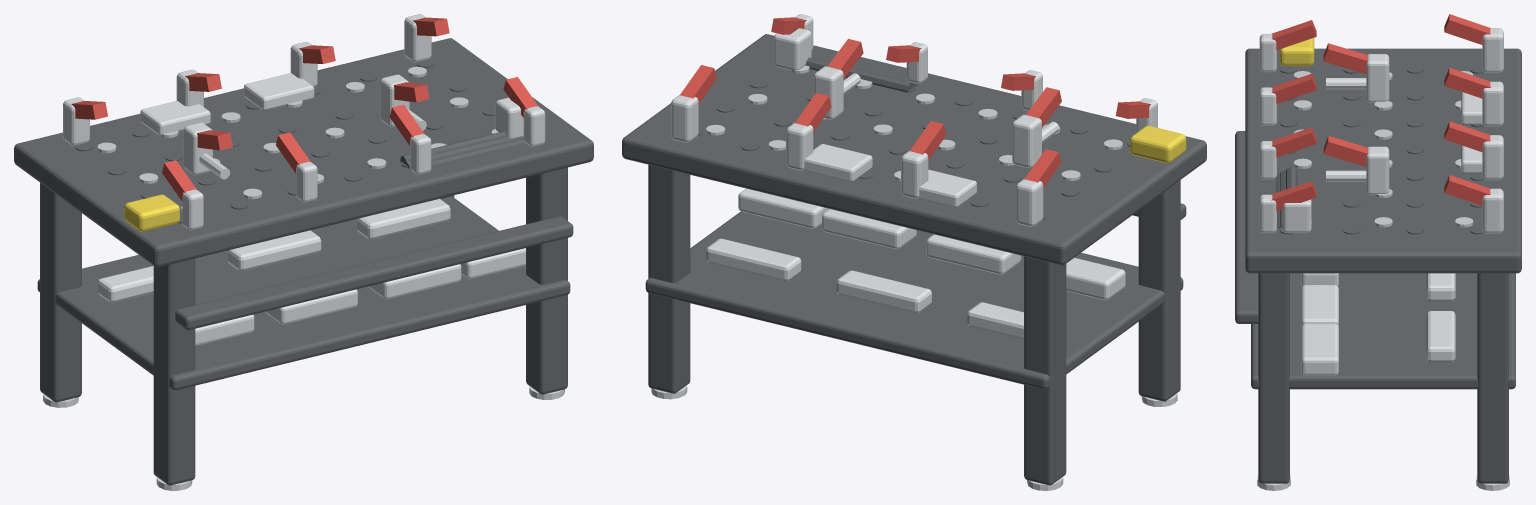
The model's file is welding-table-with-clamps.glb.
3 views of the same model, side by side, from view 1: azimuth 30°, elevation 25°; view 2: azimuth 150°, elevation 25°; view 3: azimuth 270°, elevation 25° (orthographic). The views are drawn at different scales.
Parts seen in each view (by area): view 1: machine-shop-and-factory-hall-welding-table; view 2: machine-shop-and-factory-hall-welding-table; view 3: machine-shop-and-factory-hall-welding-table.
Part boxes in pixels (left/top/right/bottom): machine-shop-and-factory-hall-welding-table: left=14, top=14, right=593, bottom=490; machine-shop-and-factory-hall-welding-table: left=622, top=14, right=1206, bottom=490; machine-shop-and-factory-hall-welding-table: left=1235, top=14, right=1521, bottom=490.
Bounding box in the file's own units: 1.7 × 1.14 × 0.995.
